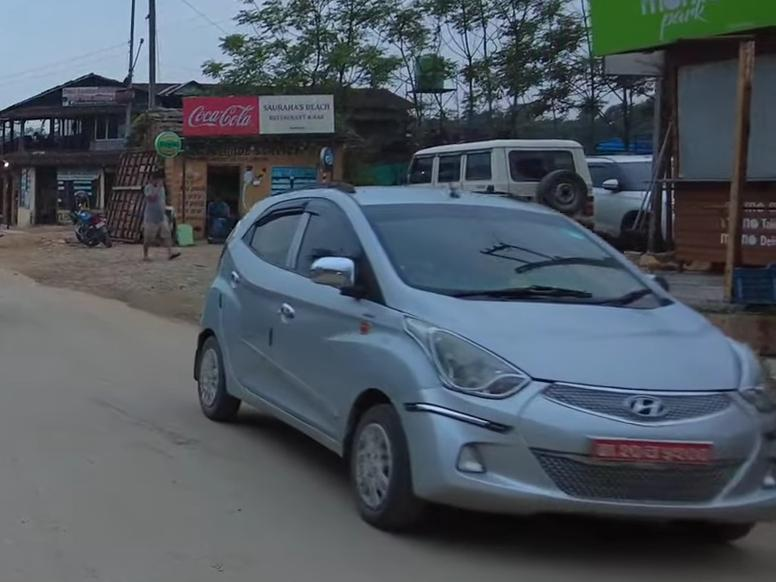car: (193, 180, 776, 537)
